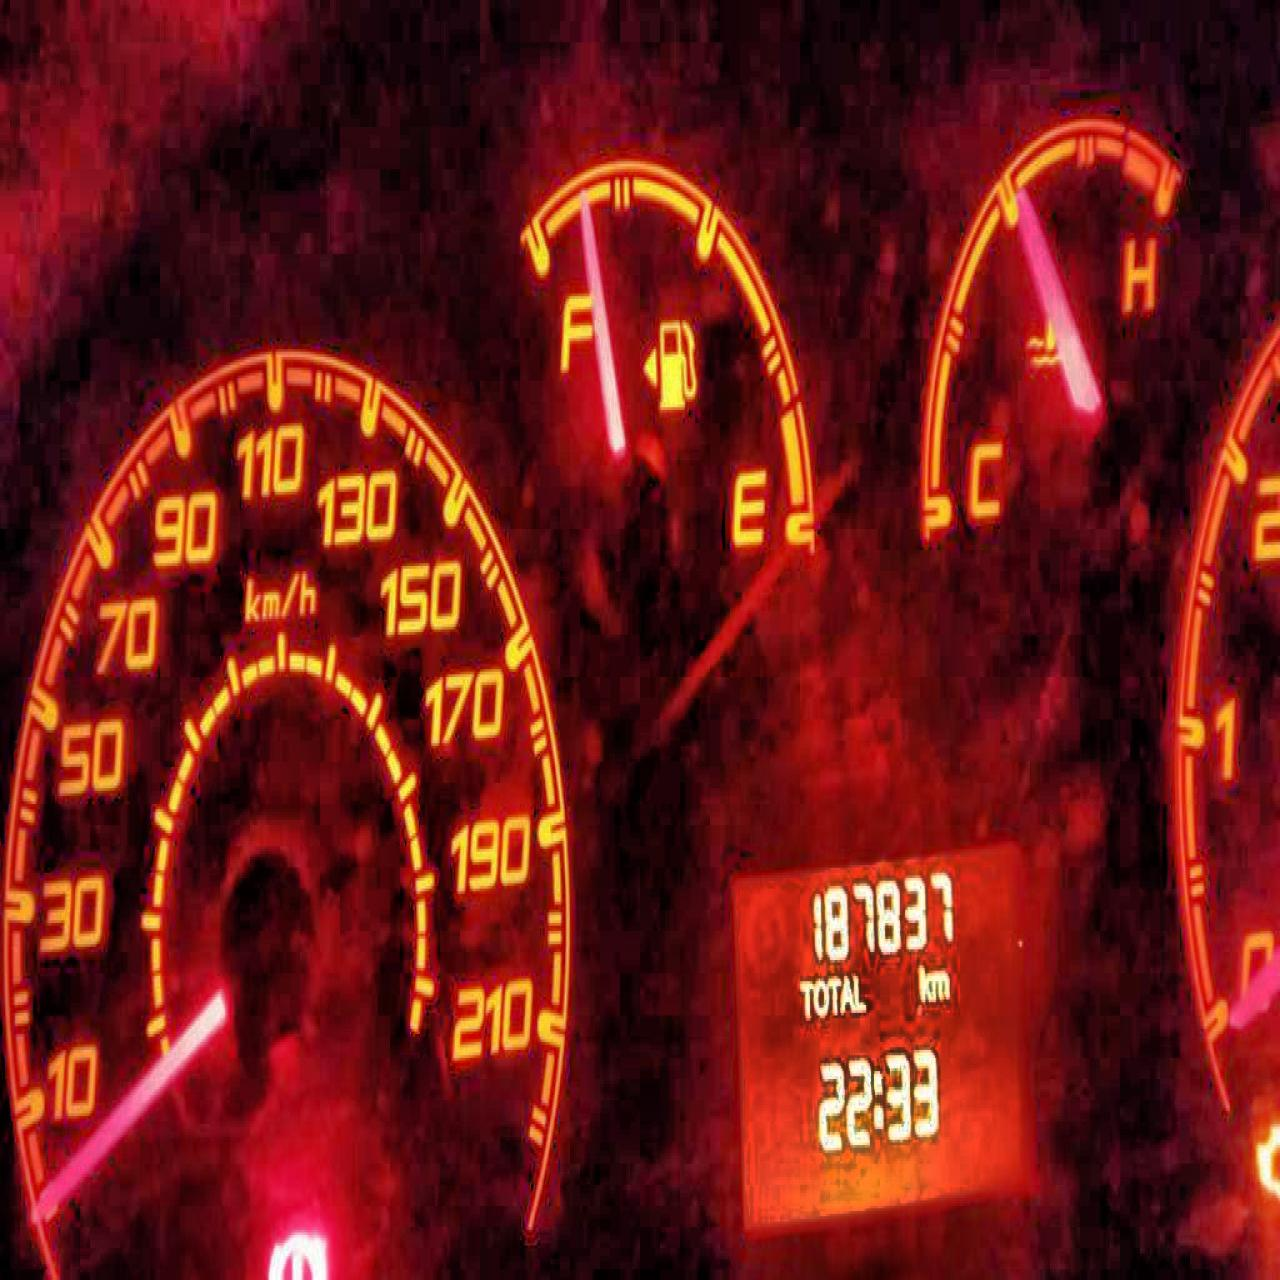1: (812, 880, 823, 960)
2: (817, 1055, 843, 1148), (846, 1053, 870, 1148)
3: (911, 1044, 939, 1143), (885, 1048, 910, 1143), (903, 873, 926, 947)
7: (930, 862, 955, 944), (851, 876, 873, 952)
8: (874, 872, 900, 954), (824, 878, 847, 960)
X: (930, 966, 949, 1002), (872, 1065, 883, 1132), (812, 973, 828, 1017), (852, 968, 867, 1010), (839, 971, 852, 1015), (828, 973, 842, 1013), (798, 975, 811, 1019), (919, 960, 930, 1002)
odometer: (722, 819, 1036, 1246)
